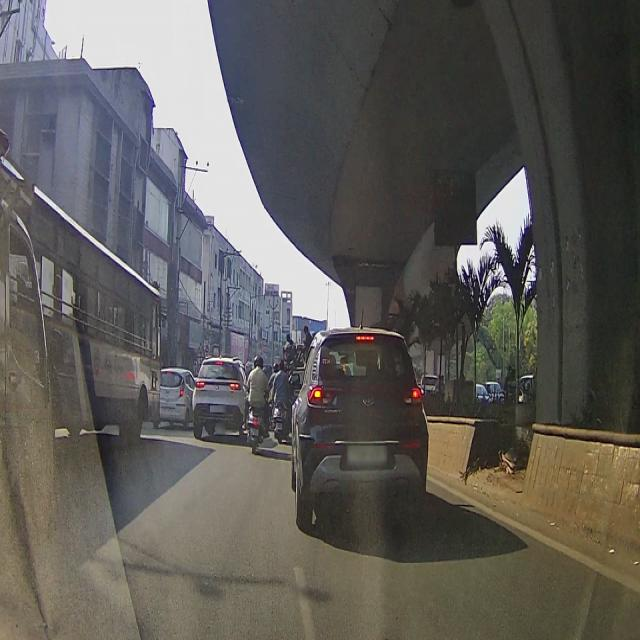side-road-left: (196, 340, 206, 357)
